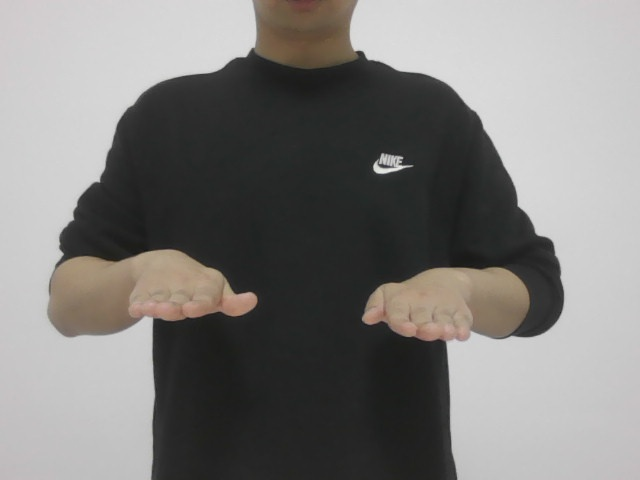flat: (119, 234, 478, 352)
